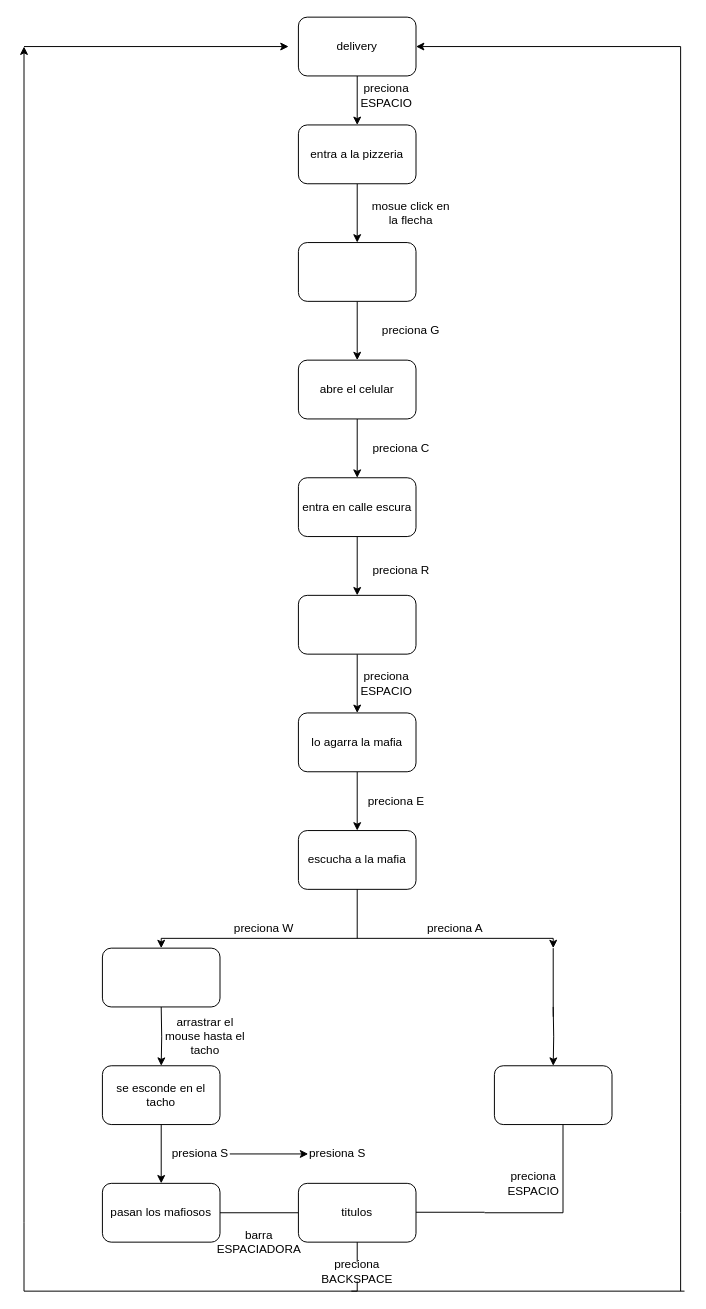
This 706x1309 diagram has some shape labels left out. Each missing label, with the box of its shape:
entra en una villa: (297, 594, 416, 654)
intenta escapar: (101, 947, 220, 1007)
sale a la calle: (297, 242, 416, 301)
viaja a china: (493, 1065, 612, 1125)
